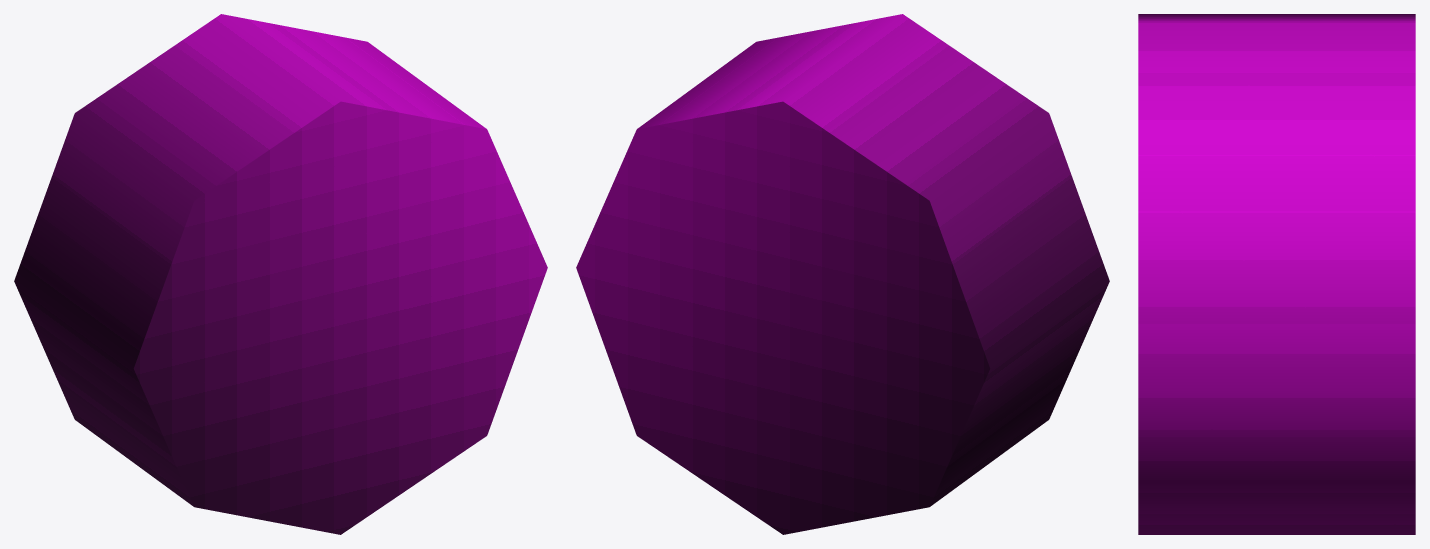
File: model_icon_pip_mesh.glb
The picture shows the model from 3 angles, left to right: view 1: azimuth 30°, elevation 25°; view 2: azimuth 150°, elevation 25°; view 3: azimuth 270°, elevation 25°; orthographic projection. The views are drawn at different scales.
Parts seen in each view (by area): view 1: control_point.model_icon_pip_mesh-Mesh[0]; view 2: control_point.model_icon_pip_mesh-Mesh[0]; view 3: control_point.model_icon_pip_mesh-Mesh[0].
Part boxes in pixels (x1,y1,x2,y2): control_point.model_icon_pip_mesh-Mesh[0]: (14, 14, 547, 534); control_point.model_icon_pip_mesh-Mesh[0]: (576, 14, 1109, 534); control_point.model_icon_pip_mesh-Mesh[0]: (1138, 14, 1415, 534).
Bounding box in the file's own units: 0.2 × 0.2 × 0.1.
1 material, 1 textured.
